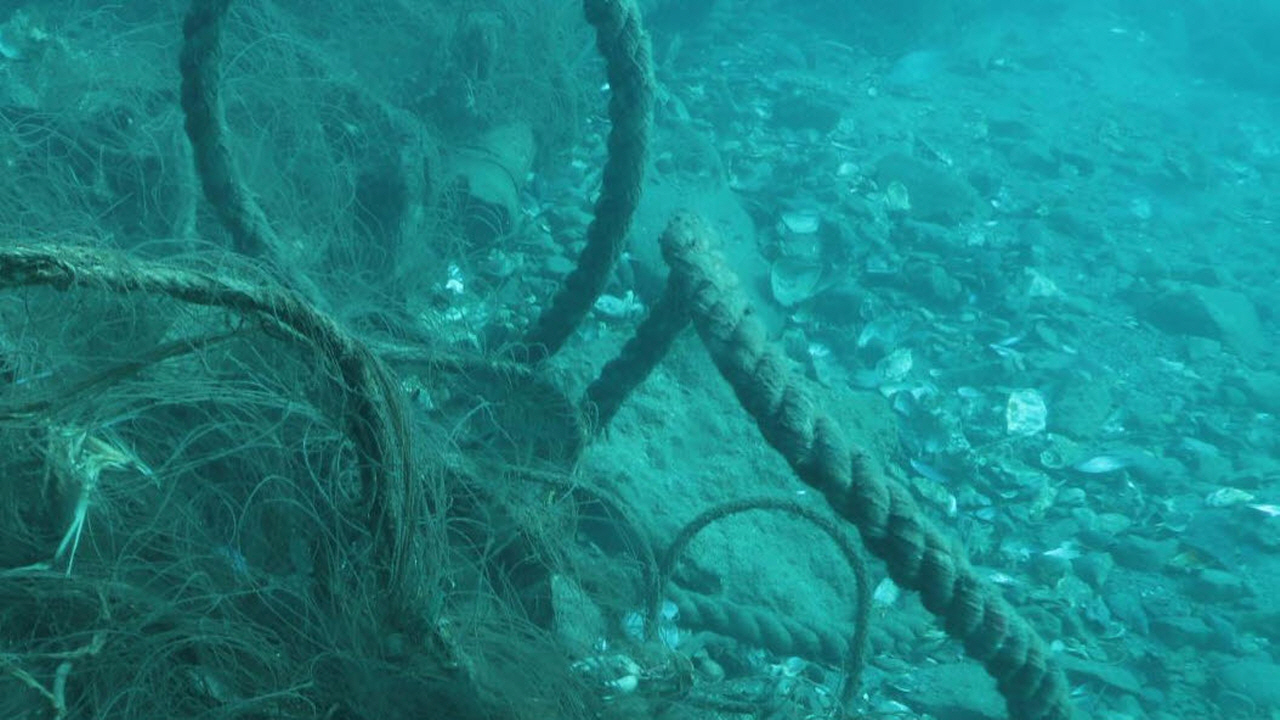bundle of ropes: (0, 0, 1076, 720)
